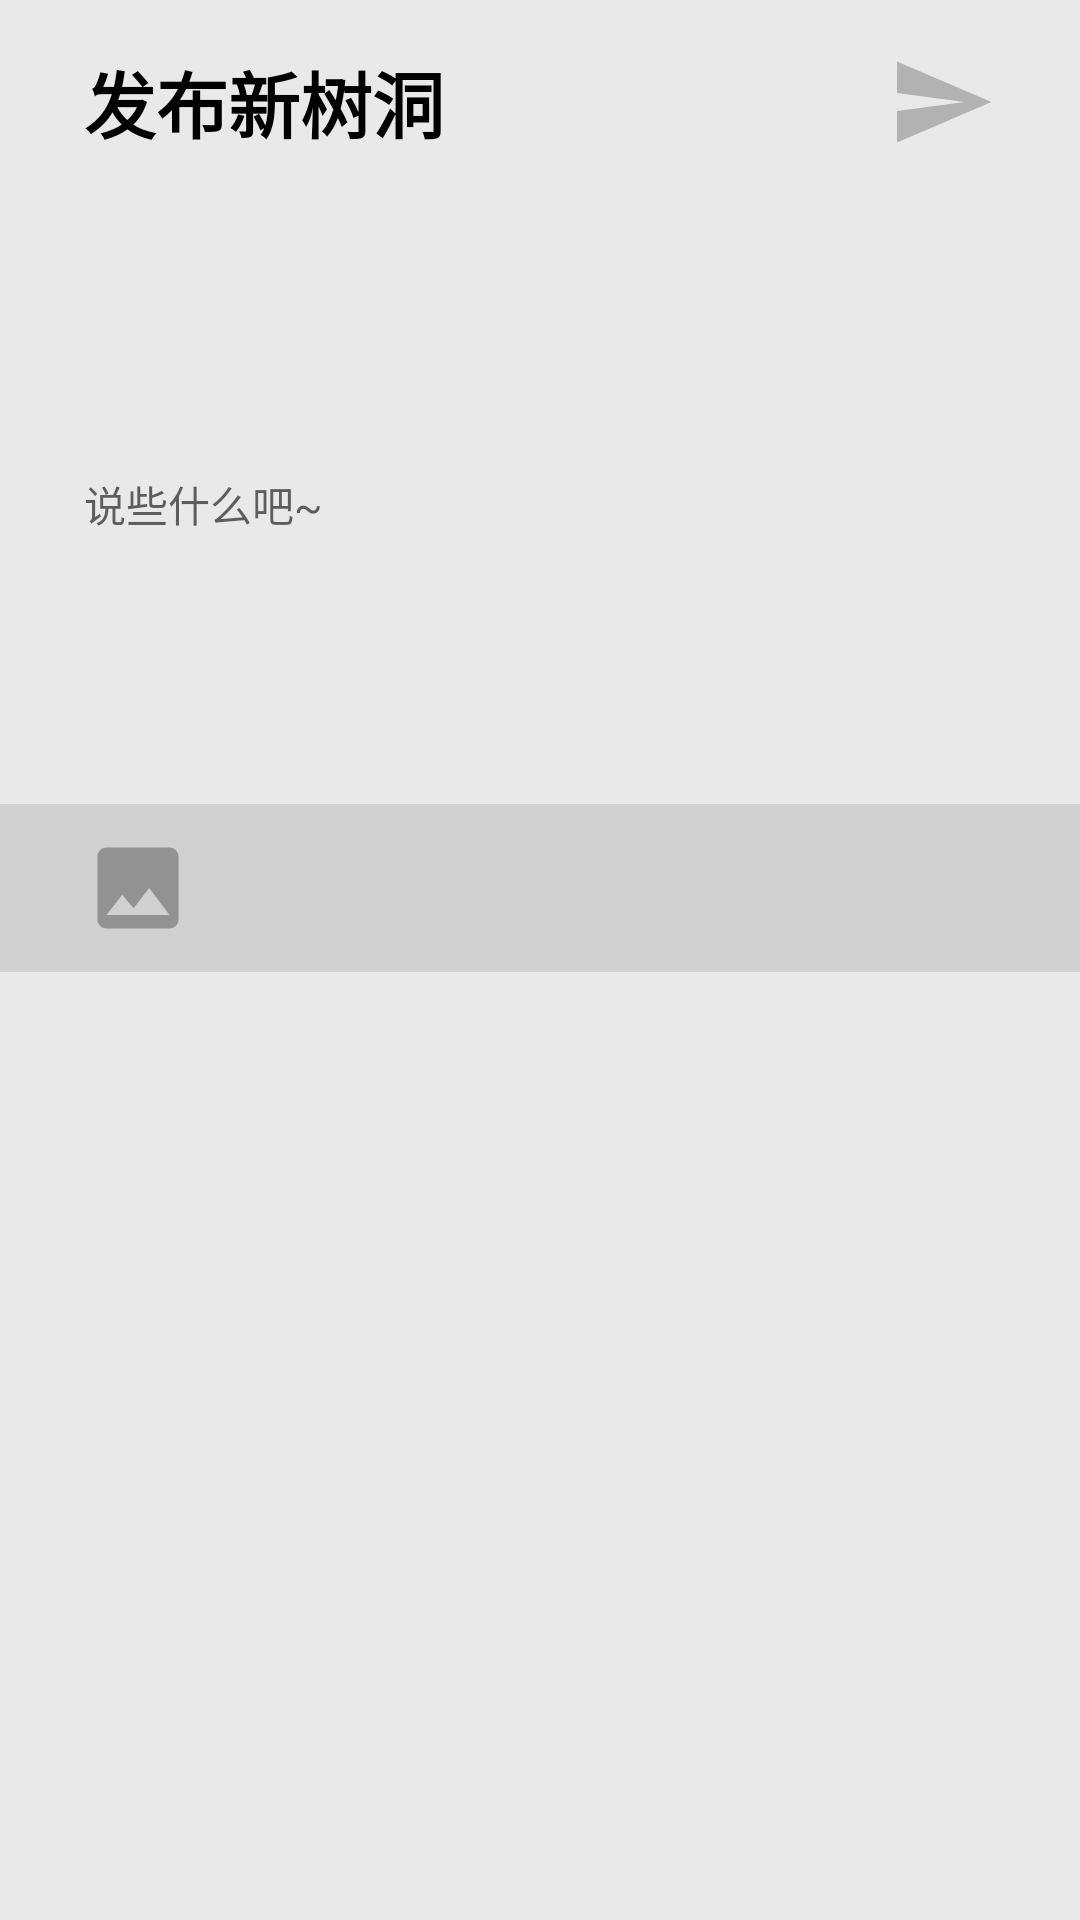

Icons on this 1080 x 1920 Android screen, each with the point to tap as point (x, y):
insert photo: point (138, 888)
send: point (943, 102)
